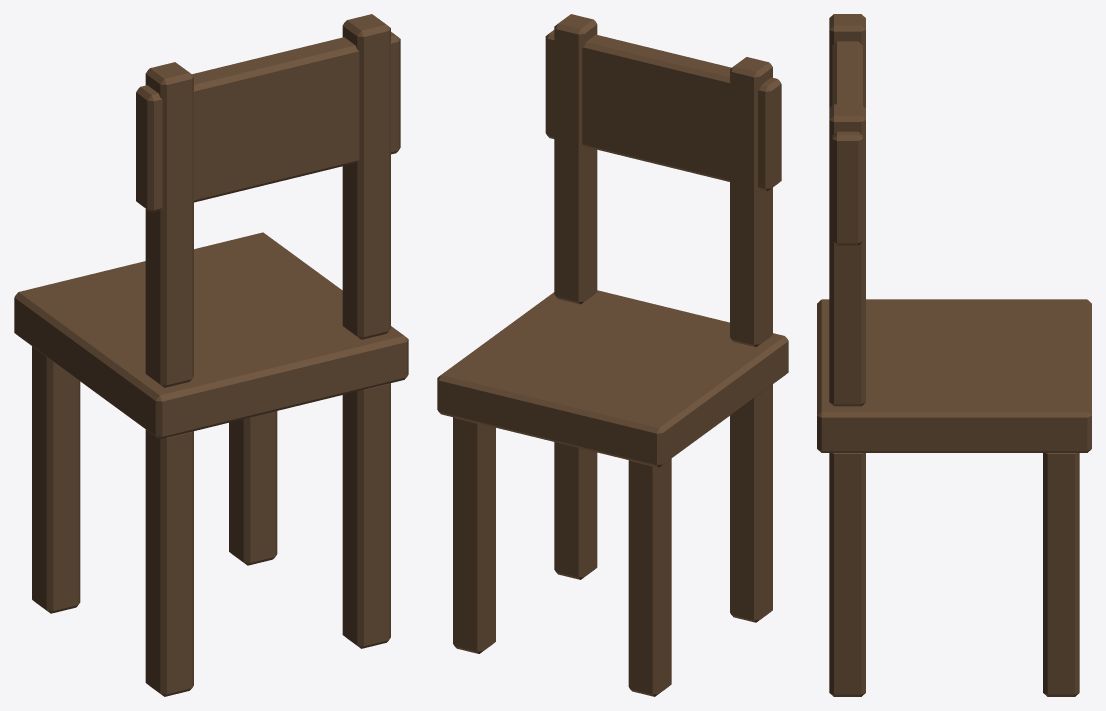
Rendered from chair.fbx.
3 renders of one model, left to right at view 1: azimuth 30°, elevation 25°; view 2: azimuth 150°, elevation 25°; view 3: azimuth 270°, elevation 25°, orthographic. The views are drawn at different scales.
Parts seen in each view (by area): view 1: chair; view 2: chair; view 3: chair.
Boxes of the visible parts, x1,y1,x2,y2 form: chair: (14,14,408,696); chair: (437,14,788,696); chair: (817,14,1091,696).
Size of the model in its own units: 180 by 420 by 180.
